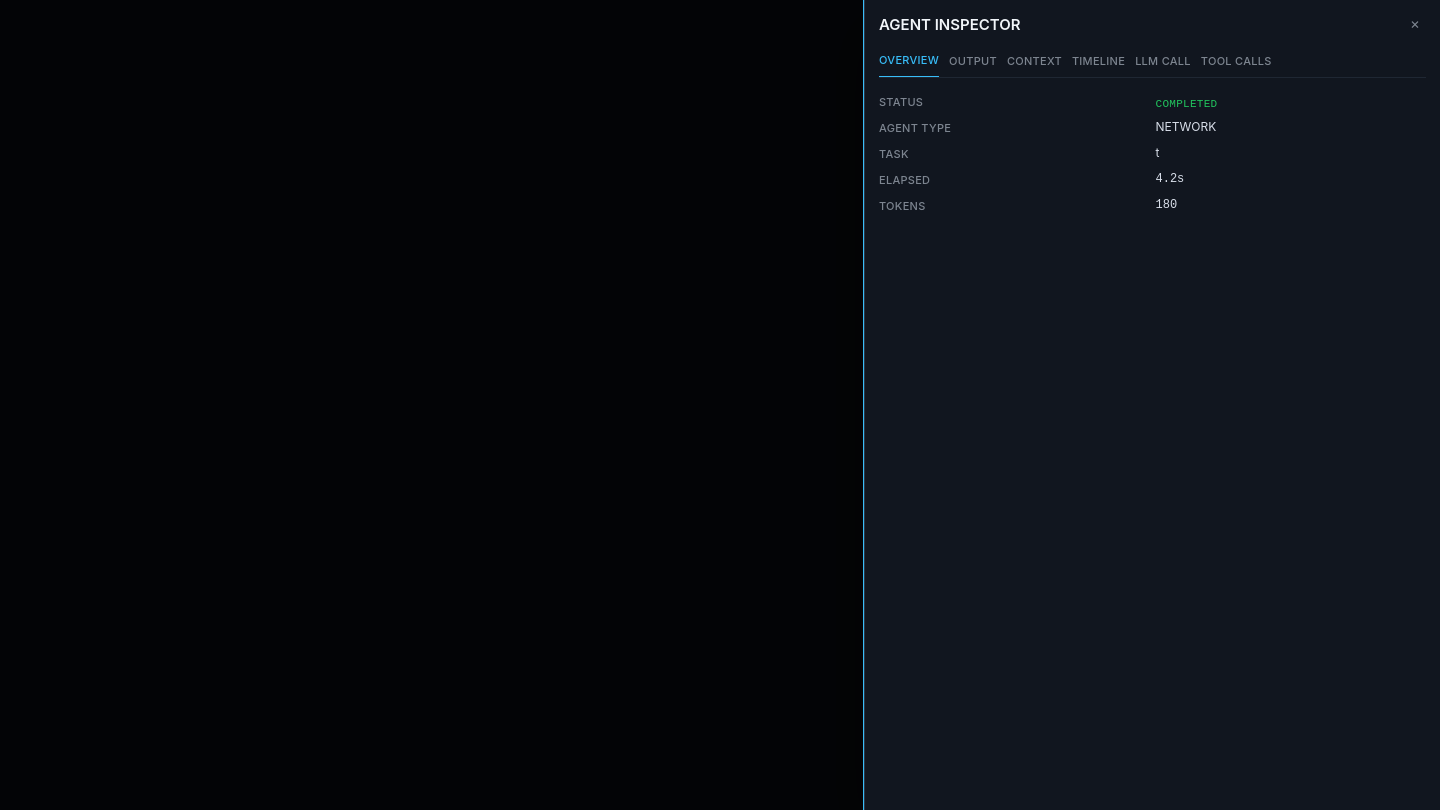
AgentInspector › switches to the Context tab when clicked
Expected: the element with test id "overview-tab" is shown, [879,95,1217,213]
Click the button "CONTEXT" at coordinates (1034, 64), box [1007,50,1062,77]
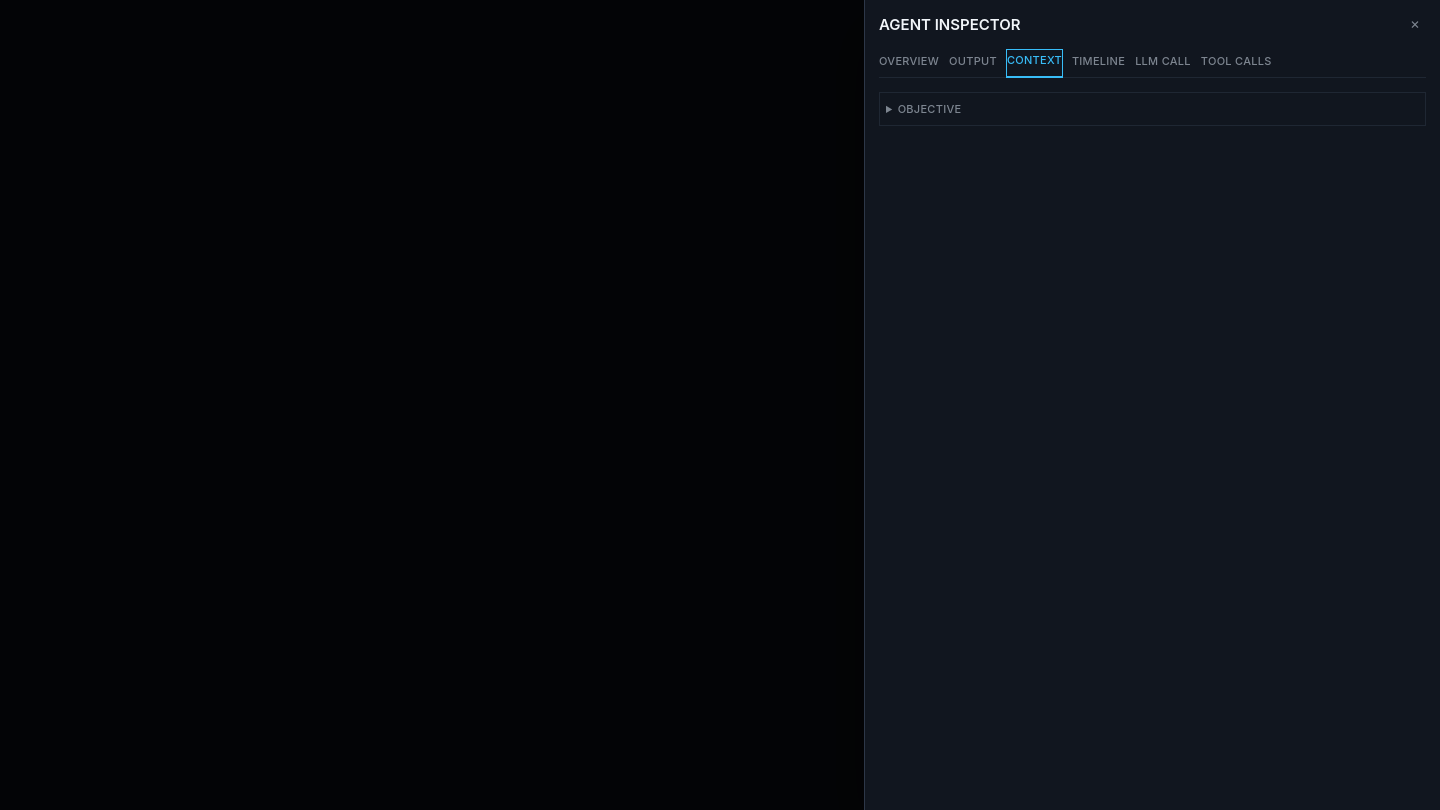
Now the element with test id "context-tab" is shown, box [879,92,1426,126]
